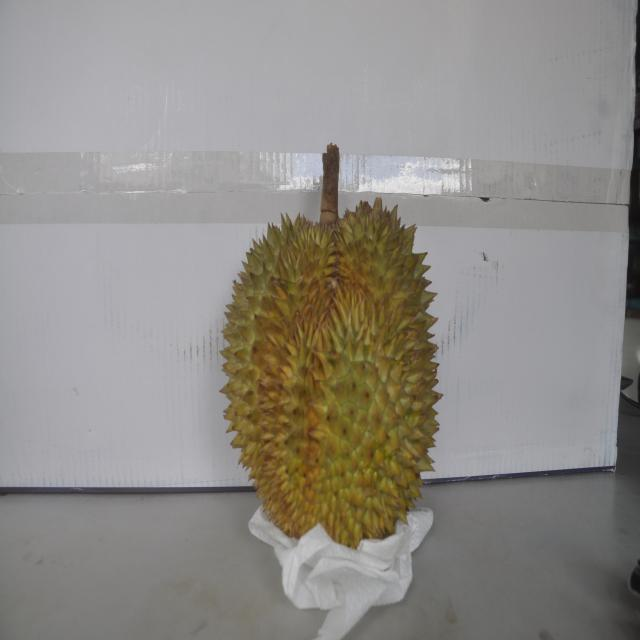mature: (219, 174, 435, 545)
